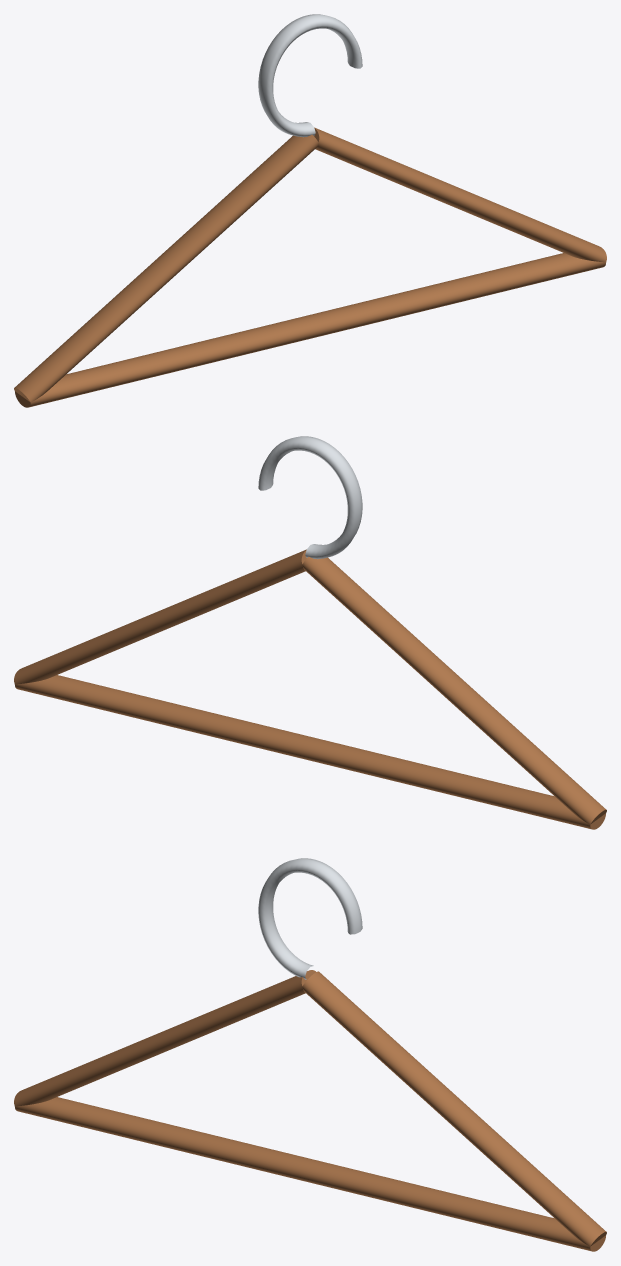
File: wp-cintre.glb
3 renders of one model, top to bottom at view 1: azimuth 30°, elevation 25°; view 2: azimuth 150°, elevation 25°; view 3: azimuth 330°, elevation 25°, orthographic.
Parts seen in each view (by area): view 1: wp-cintre; view 2: wp-cintre; view 3: wp-cintre.
Part boxes in pixels (box(x1,y1,x2,y2)): wp-cintre: box(14, 14, 606, 407); wp-cintre: box(14, 436, 606, 829); wp-cintre: box(14, 858, 606, 1251).
Size of the model in its own units: 0.42 by 0.22 by 0.02.
